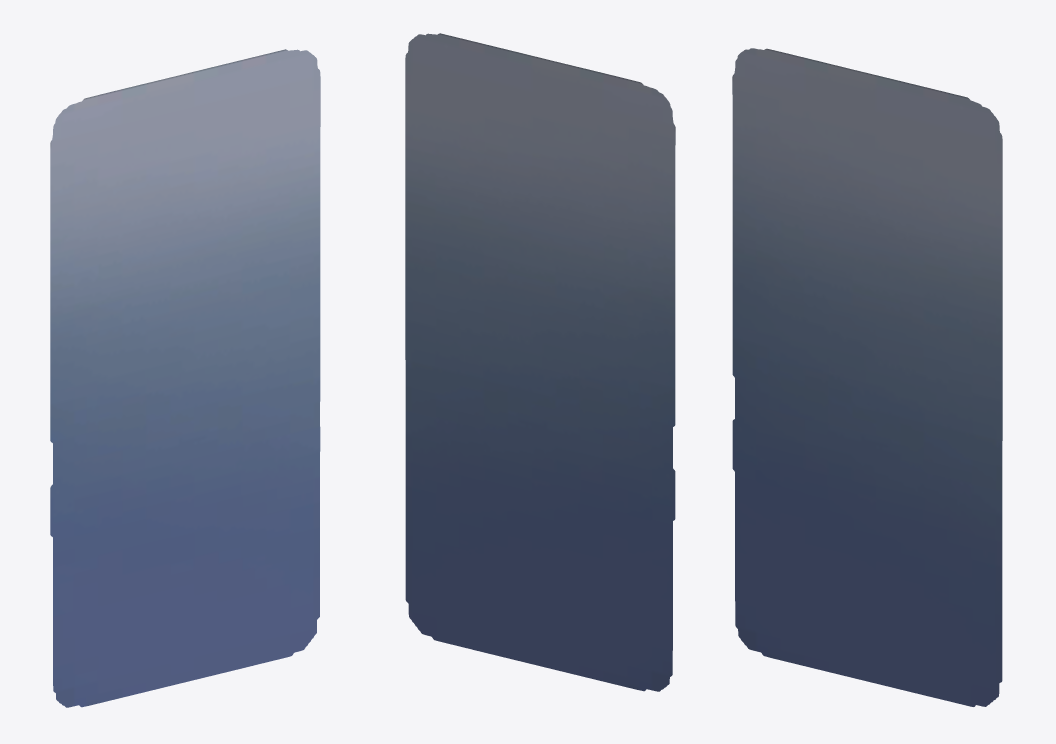
The model's file is Player_Boy_Yanqing_LookAtPhone_00.fbx.
The picture shows the model from 3 angles, left to right: view 1: azimuth 30°, elevation 25°; view 2: azimuth 150°, elevation 25°; view 3: azimuth 330°, elevation 25°; orthographic projection.
Visible parts, largest first — view 1: LookAtPhone_00_Phone_Model; view 2: LookAtPhone_00_Phone_Model; view 3: LookAtPhone_00_Phone_Model.
Part boxes in pixels (x1,y1,x2,y2): LookAtPhone_00_Phone_Model: (50, 49, 320, 707); LookAtPhone_00_Phone_Model: (405, 33, 675, 691); LookAtPhone_00_Phone_Model: (732, 48, 1002, 706).
Size of the model in its own units: 0.066 by 0.1328 by 0.0081.
1 material, 1 textured.
